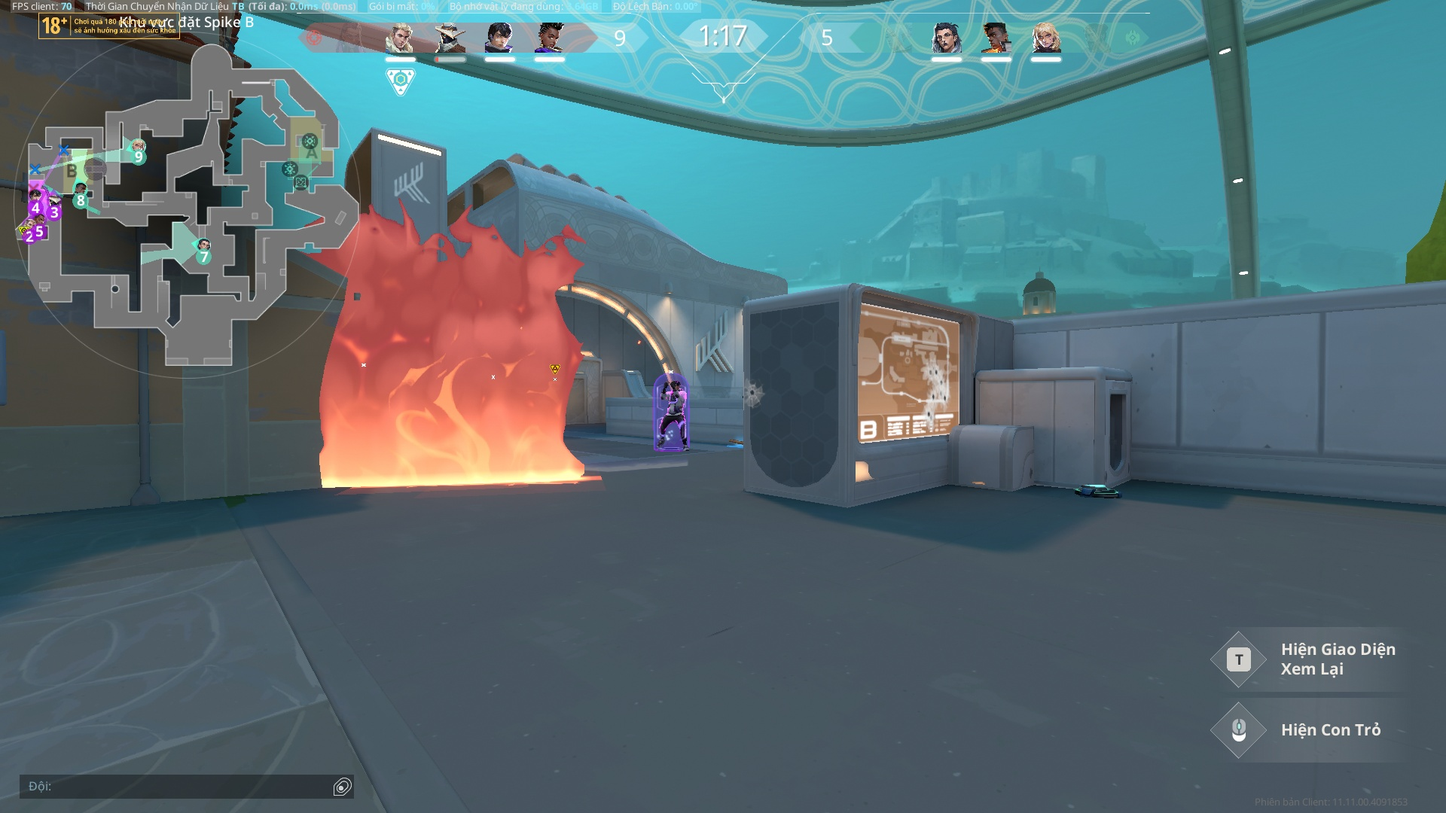body: (665, 388, 687, 412)
head: (670, 379, 682, 390)
